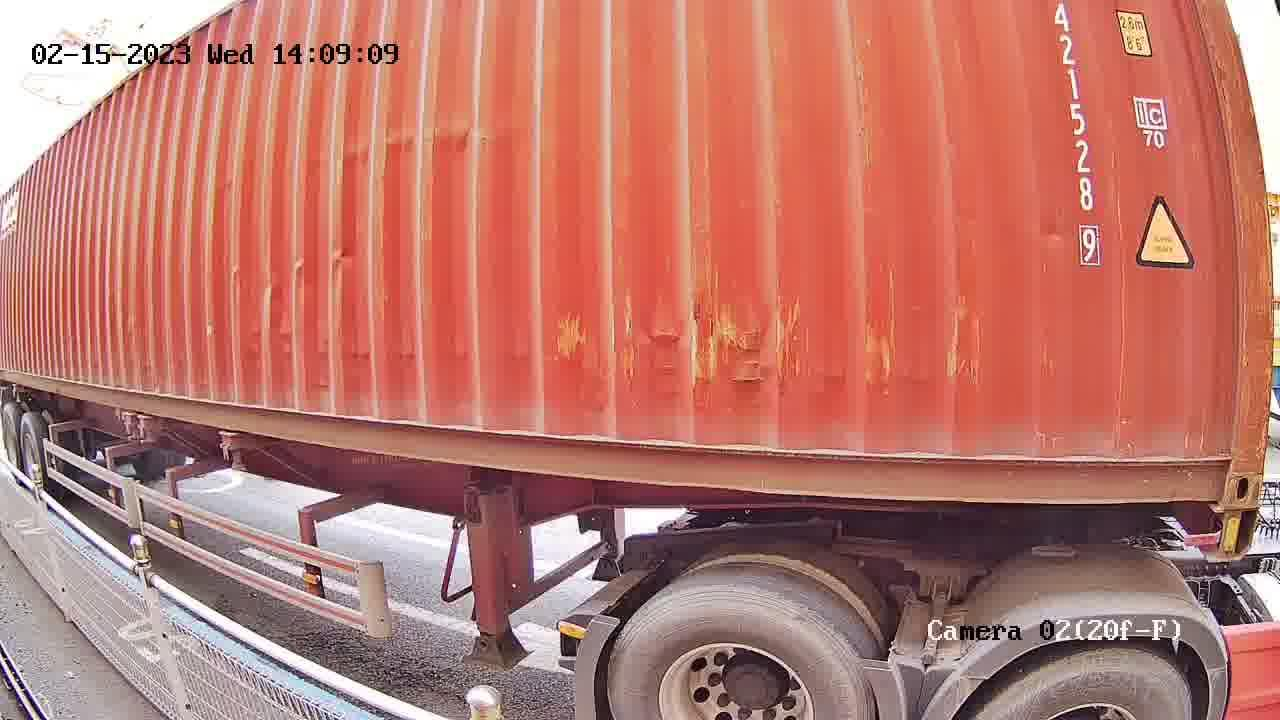Cone: (1216, 511, 1265, 563)
Hole_R: (1167, 406, 1271, 510)
Tire: (606, 592, 882, 719), (969, 649, 1192, 717)
